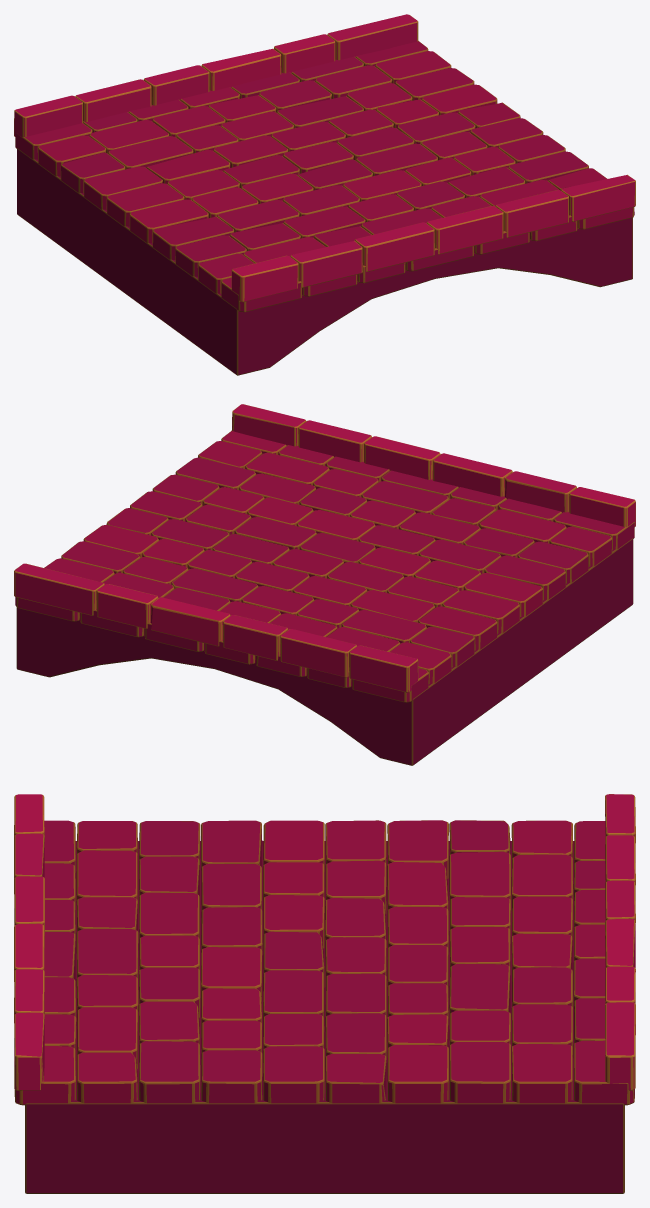
File: SM_RV_Bridge.fbx
The picture shows the model from 3 angles, top to bottom: view 1: azimuth 30°, elevation 25°; view 2: azimuth 150°, elevation 25°; view 3: azimuth 270°, elevation 25°; orthographic projection. The views are drawn at different scales.
Visible parts, largest first — view 1: SM_RV_Bridge; view 2: SM_RV_Bridge; view 3: SM_RV_Bridge.
Boxes of the visible parts, bbox=[...] form: SM_RV_Bridge: bbox=[14, 14, 635, 375]; SM_RV_Bridge: bbox=[14, 404, 635, 765]; SM_RV_Bridge: bbox=[14, 794, 635, 1193].
Size of what is drawn, in the model's own units: 701 by 700 by 173.
